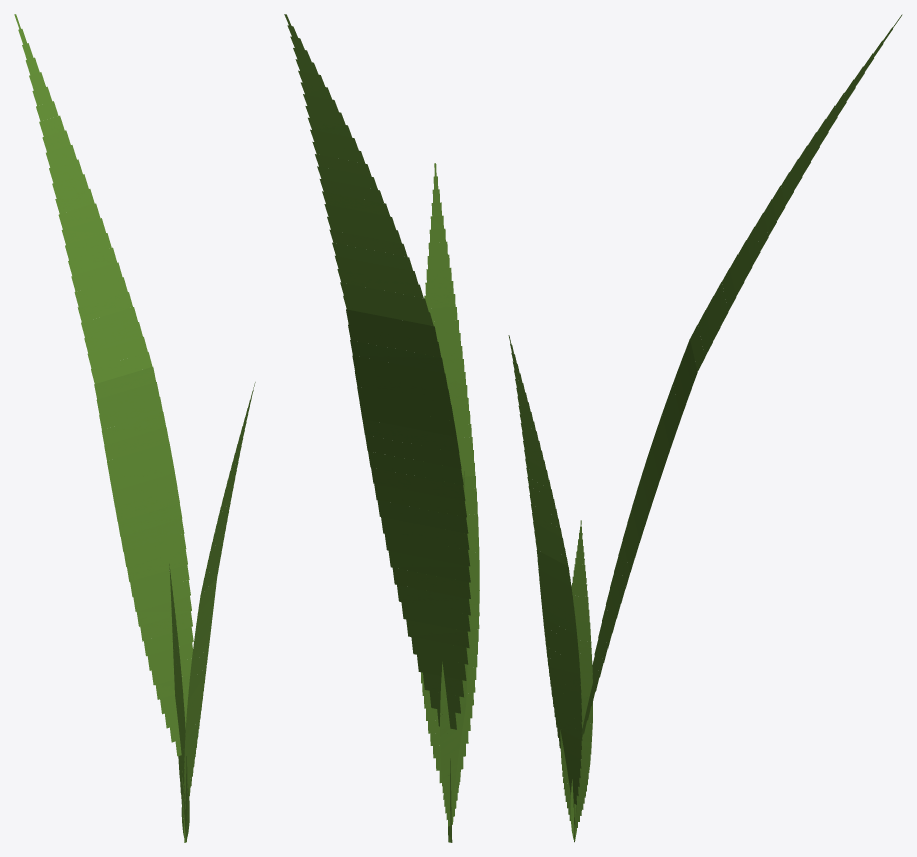
Rendered from maize_004_day_040.dae.
3 views of the same model, side by side, from view 1: azimuth 30°, elevation 25°; view 2: azimuth 150°, elevation 25°; view 3: azimuth 270°, elevation 25° (orthographic). The views are drawn at different scales.
Visible parts, largest first — view 1: node; view 2: node; view 3: node.
Boxes of the visible parts, x1,y1,x2,y2 form: node: (14,14,255,842); node: (284,14,479,842); node: (508,14,902,842).
Size of the model in its own units: 0.0287 by 0.2456 by 0.1077.
Materials: 1 (1 with a texture image).
